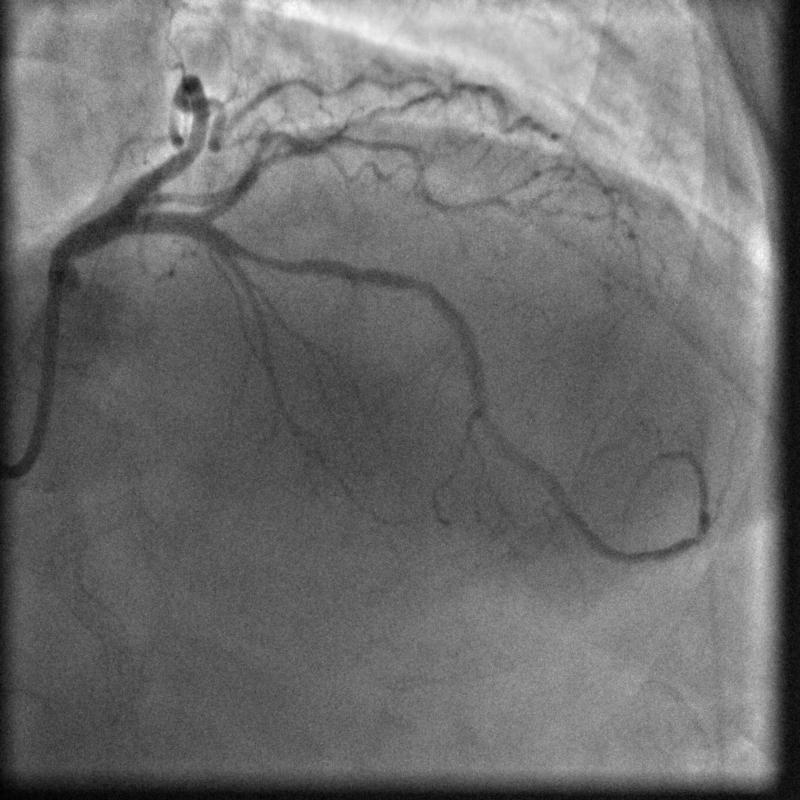Stenosis: (240, 231, 290, 276)
